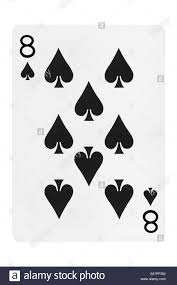eight of spades: (11, 25, 164, 242)
